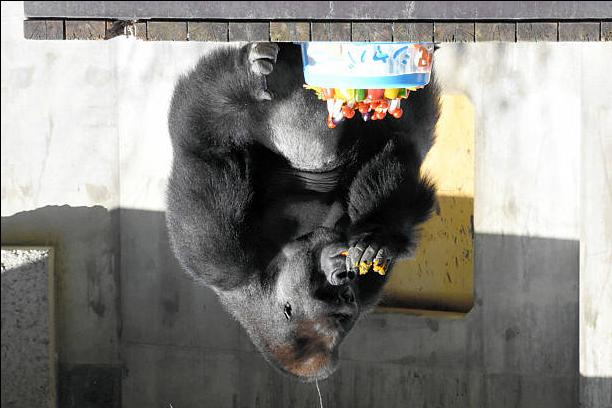gorille_Autres: (168, 118, 416, 408)
